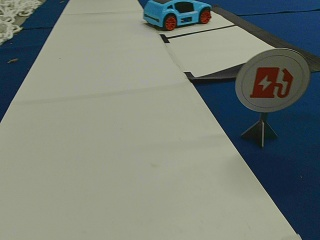battery: (236, 48, 312, 114)
car: (143, 1, 212, 29)
